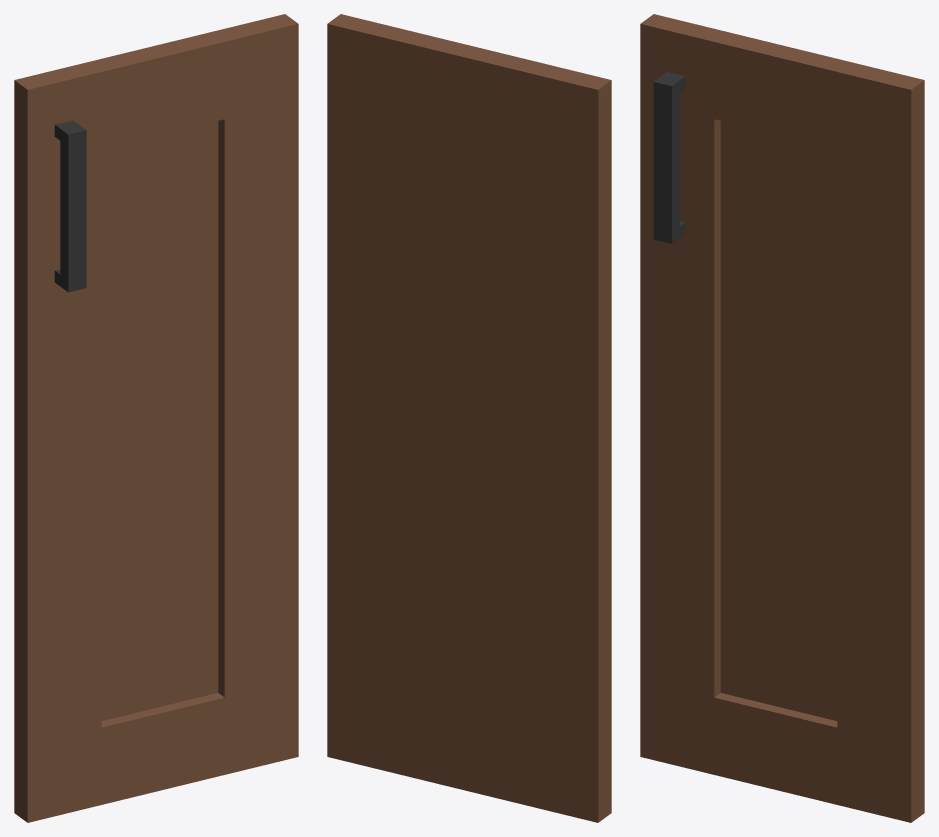
File: Door2_C2_03.fbx
3 views of the same model, side by side, from view 1: azimuth 30°, elevation 25°; view 2: azimuth 150°, elevation 25°; view 3: azimuth 330°, elevation 25° (orthographic).
Visible parts, largest first — view 1: Door2_C2_03; view 2: Door2_C2_03; view 3: Door2_C2_03.
Part boxes in pixels (x1,y1,x2,y2): Door2_C2_03: (14, 14, 298, 822); Door2_C2_03: (327, 14, 611, 822); Door2_C2_03: (640, 14, 924, 822).
Size of the model in its own units: 29 by 75 by 5.03.
